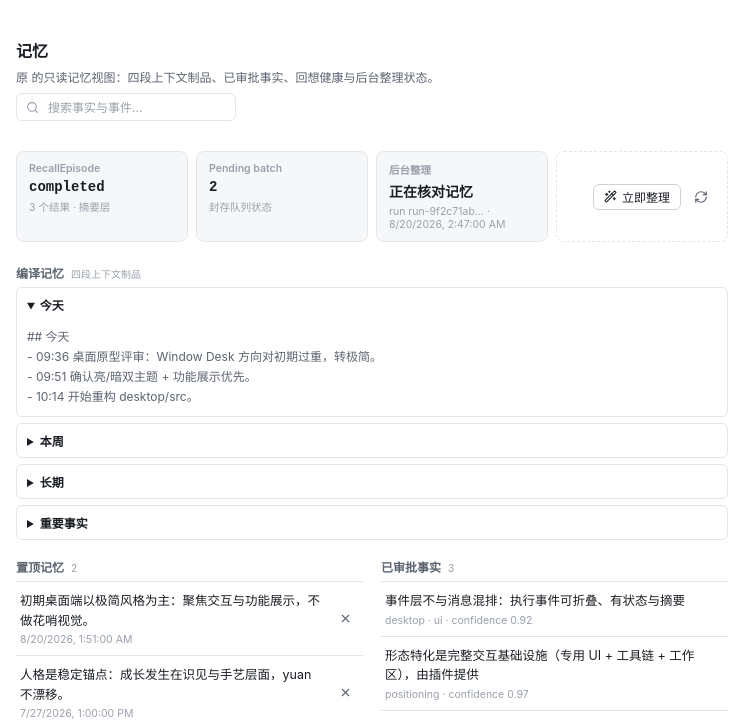
MEM-02: 关键字搜索经 400ms 防抖后按 q 过滤事实与事件（fixture 注入服务端 q 行为）
The image size is (745, 722).
Type "沙箱" into the search field with placeholder "搜索事实与事件…".
click(136, 107); type("沙箱")  # box left=46, top=99, right=226, bottom=116
(page scrolled)
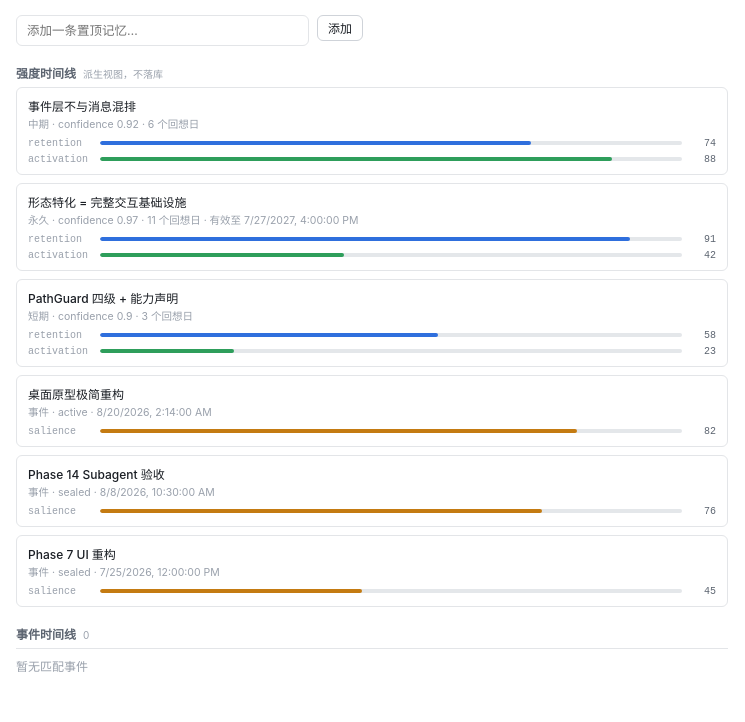
Expected: the text "暂无匹配事件" is shown, left=16, top=659, right=88, bottom=674
